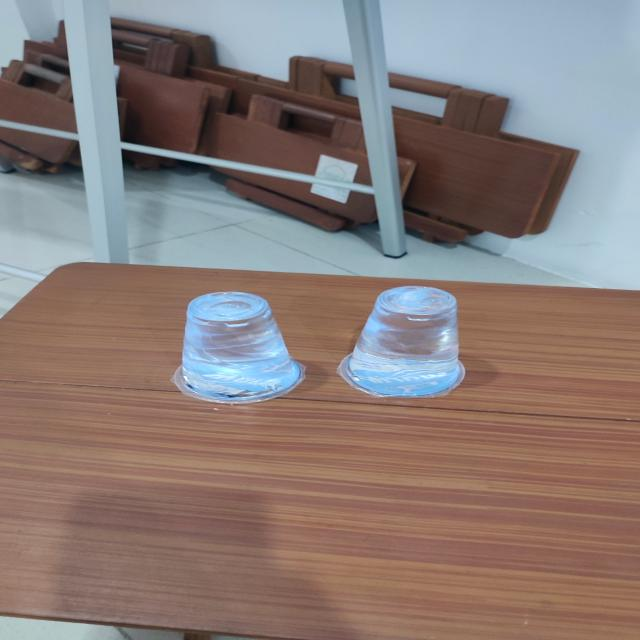air gelas: (161, 286, 314, 412), (323, 281, 478, 404)
